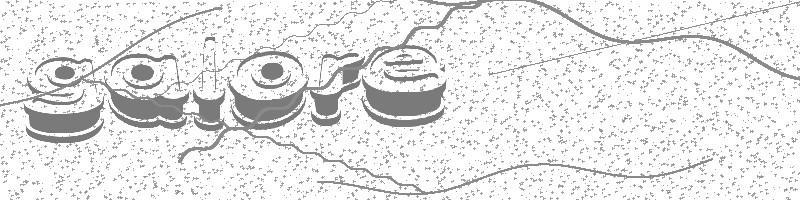a: (107, 55, 189, 129)
e: (362, 44, 447, 126)
g: (25, 57, 104, 142)
l: (194, 37, 225, 131)
o: (230, 51, 307, 129)
r: (311, 52, 364, 126)
